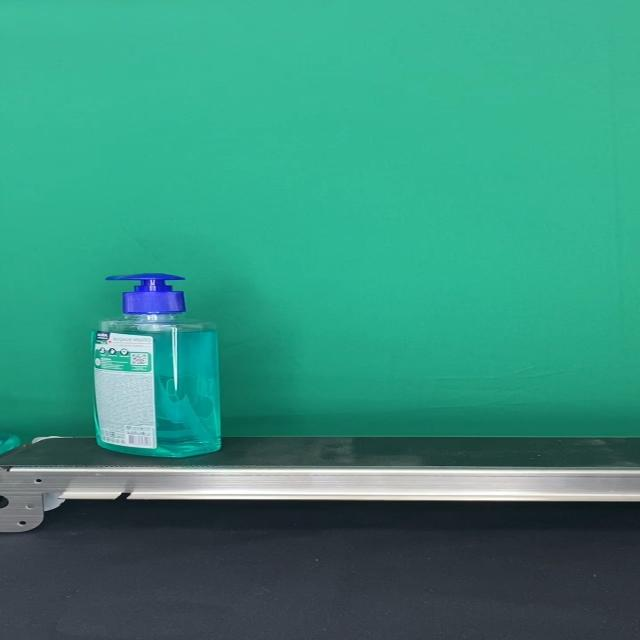Bottle: (89, 273, 223, 457)
Cap: (106, 273, 187, 315)
